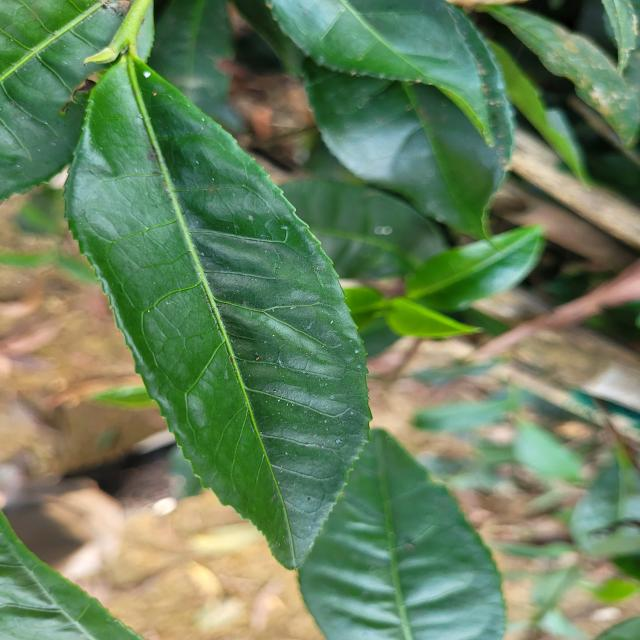Category D(7+ days, Not for Tea): (39, 34, 392, 572)
